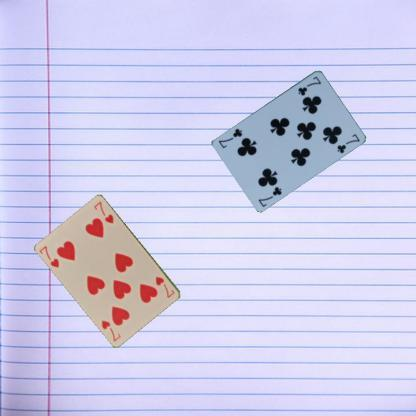7c: (256, 184, 283, 208), (296, 74, 323, 96)
7h: (37, 243, 61, 269), (153, 274, 176, 299)
